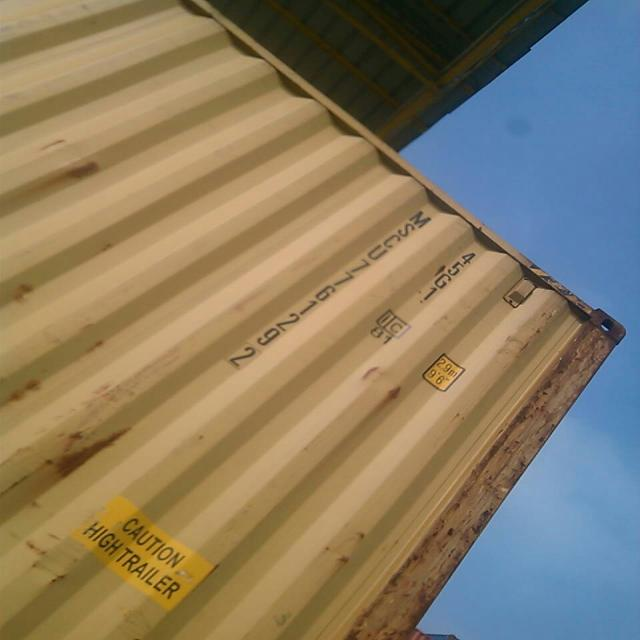rust: (381, 530, 474, 638), (42, 411, 141, 489), (543, 311, 630, 393), (474, 404, 540, 484), (37, 156, 110, 201), (379, 384, 411, 409)
